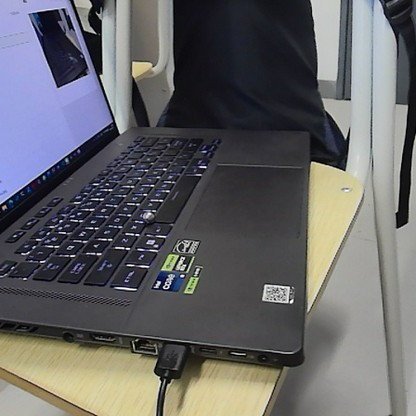ironball: (139, 208, 154, 224)
